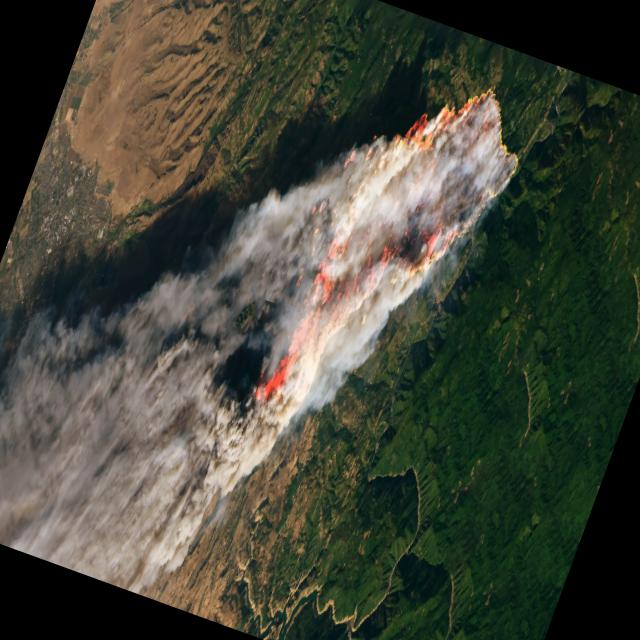methane: (0, 102, 511, 594)
